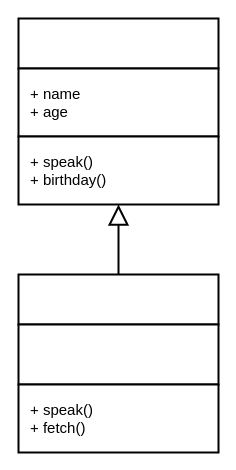
Image size: 236x470. Some labels were removed from this diagram. The shapes that lost their labels are listed below. From the top down, each one's centre as x and y in pixels, then its label:
point (118, 43): Animal
point (118, 299): Dog
